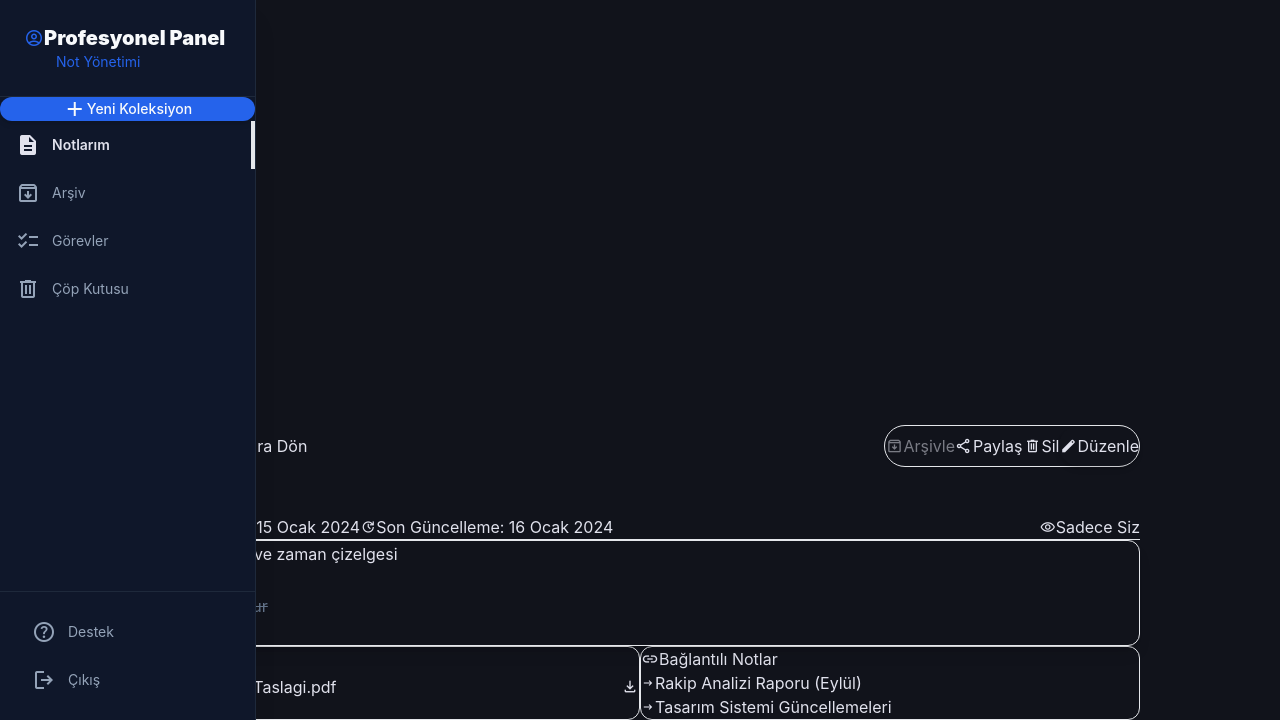
Test case: NotDetayi › closes delete confirmation when cancel clicked
(page scrolled)
Click the text "Sil". click: (1050, 446)
box: [1041,434,1059,458]
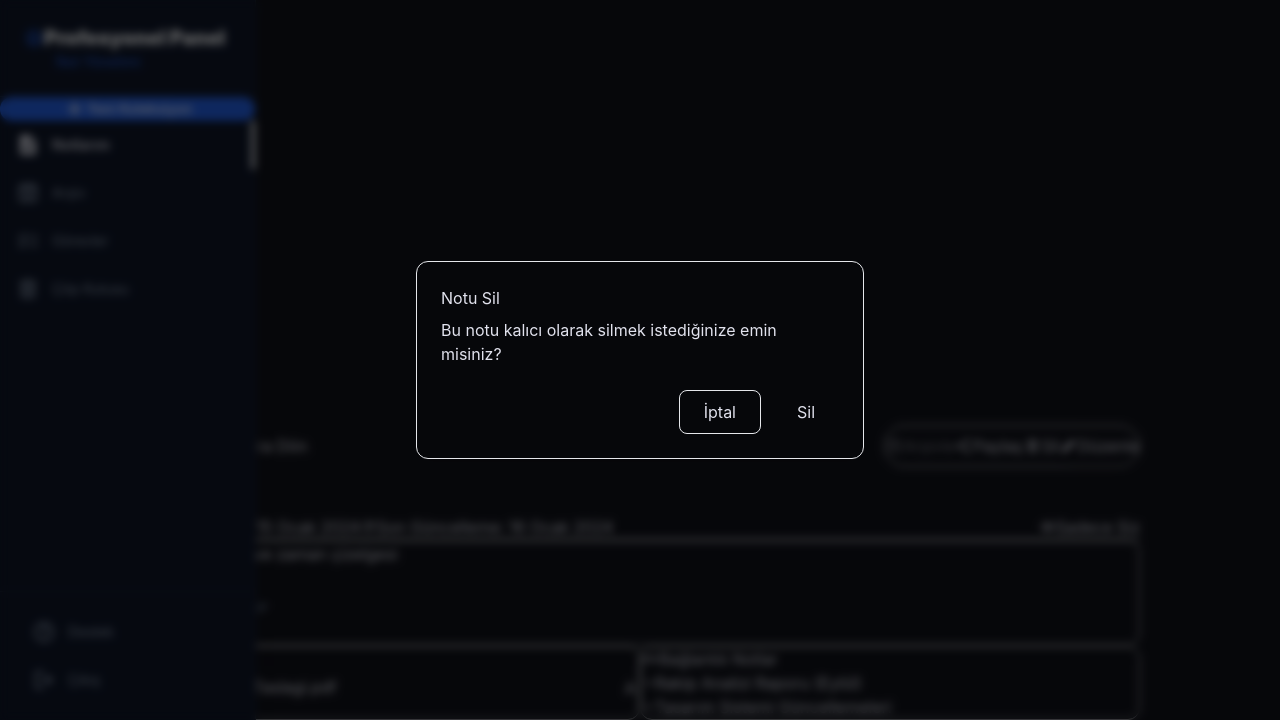
Click the button "İptal". click: (720, 412)
box: [679,390,761,434]
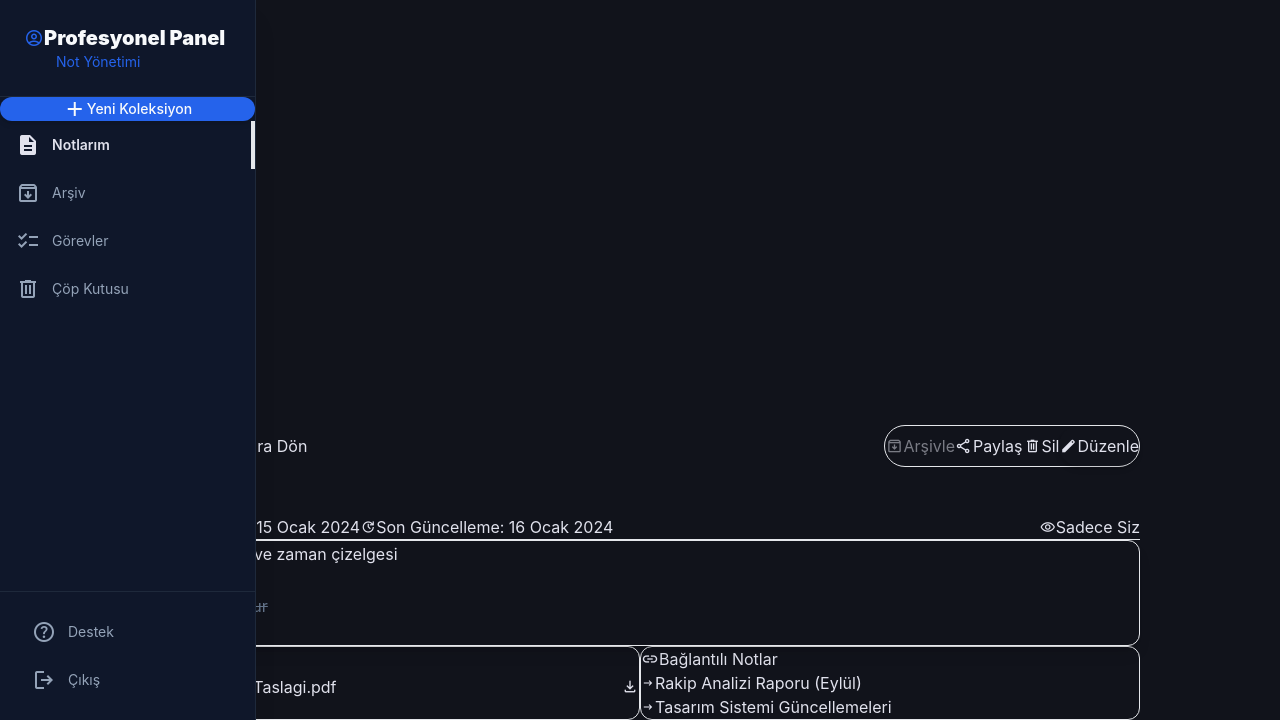
Expected: the text "Bu notu kalıcı olarak silmek istediğinize emin misiniz?" is gone
